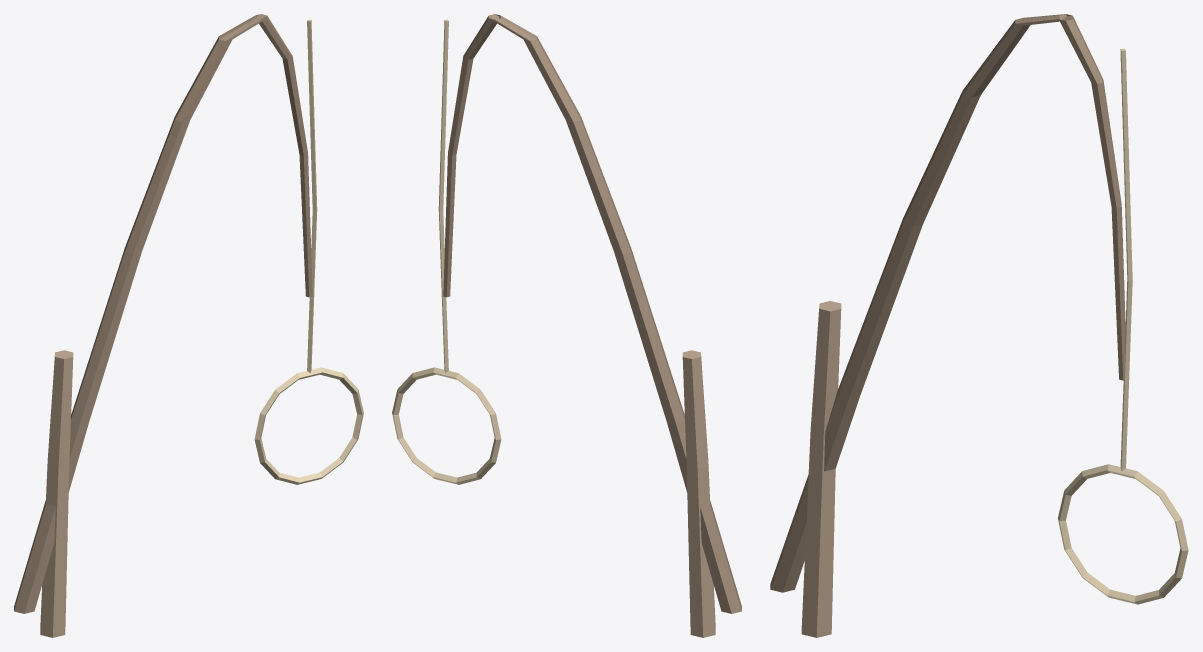
The model's file is snare.glb.
3 views of the same model, side by side, from view 1: azimuth 30°, elevation 25°; view 2: azimuth 150°, elevation 25°; view 3: azimuth 330°, elevation 25° (orthographic). The views are drawn at different scales.
Visible parts, largest first — view 1: snare; view 2: snare; view 3: snare.
Boxes of the visible parts, x1=… form: snare: x1=14, y1=14, x2=363, y2=637; snare: x1=392, y1=14, x2=741, y2=637; snare: x1=770, y1=14, x2=1188, y2=637.
Size of what is drawn, in the model's own units: 0.614 by 0.9457 by 0.0381.
